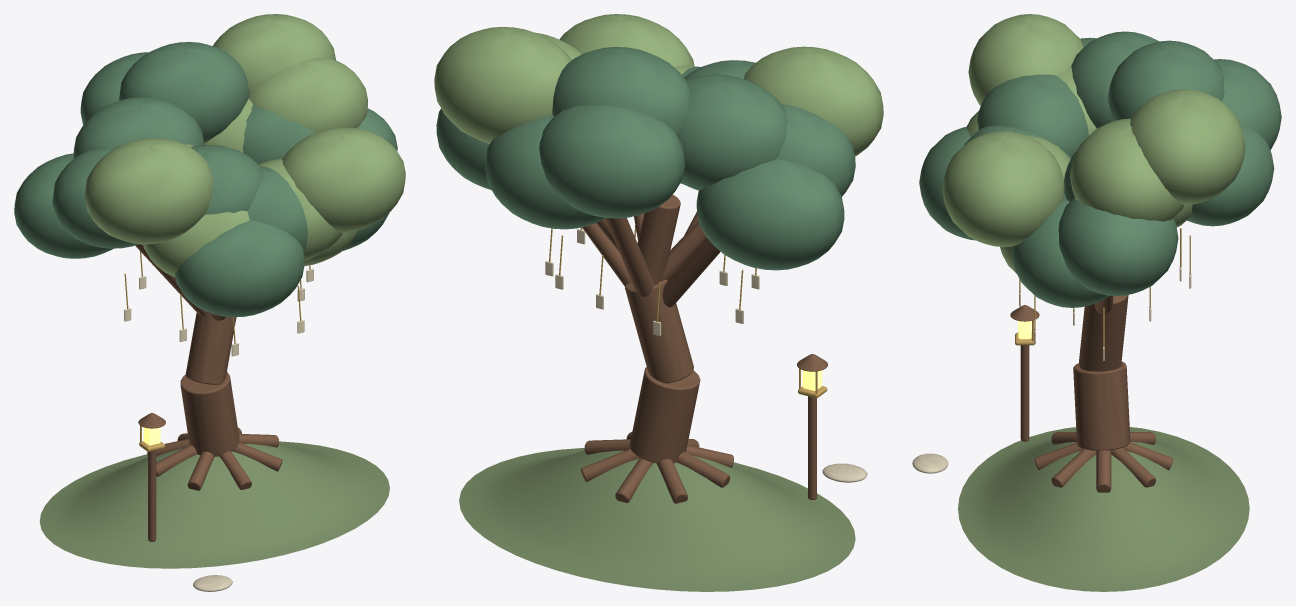
Rendered from wishing-tree.glb.
The picture shows the model from 3 angles, left to right: view 1: azimuth 30°, elevation 25°; view 2: azimuth 150°, elevation 25°; view 3: azimuth 270°, elevation 25°; orthographic projection. The views are drawn at different scales.
Visible parts, largest first — view 1: Forest hamlet; view 2: Forest hamlet; view 3: Forest hamlet.
Boxes of the visible parts, box(x1,y1,x2,y2) form: Forest hamlet: box(14, 14, 405, 591); Forest hamlet: box(434, 14, 883, 591); Forest hamlet: box(912, 14, 1281, 591).
Size of the model in its own units: 5.58 by 6.46 by 4.69.
8 materials, 8 textured.
